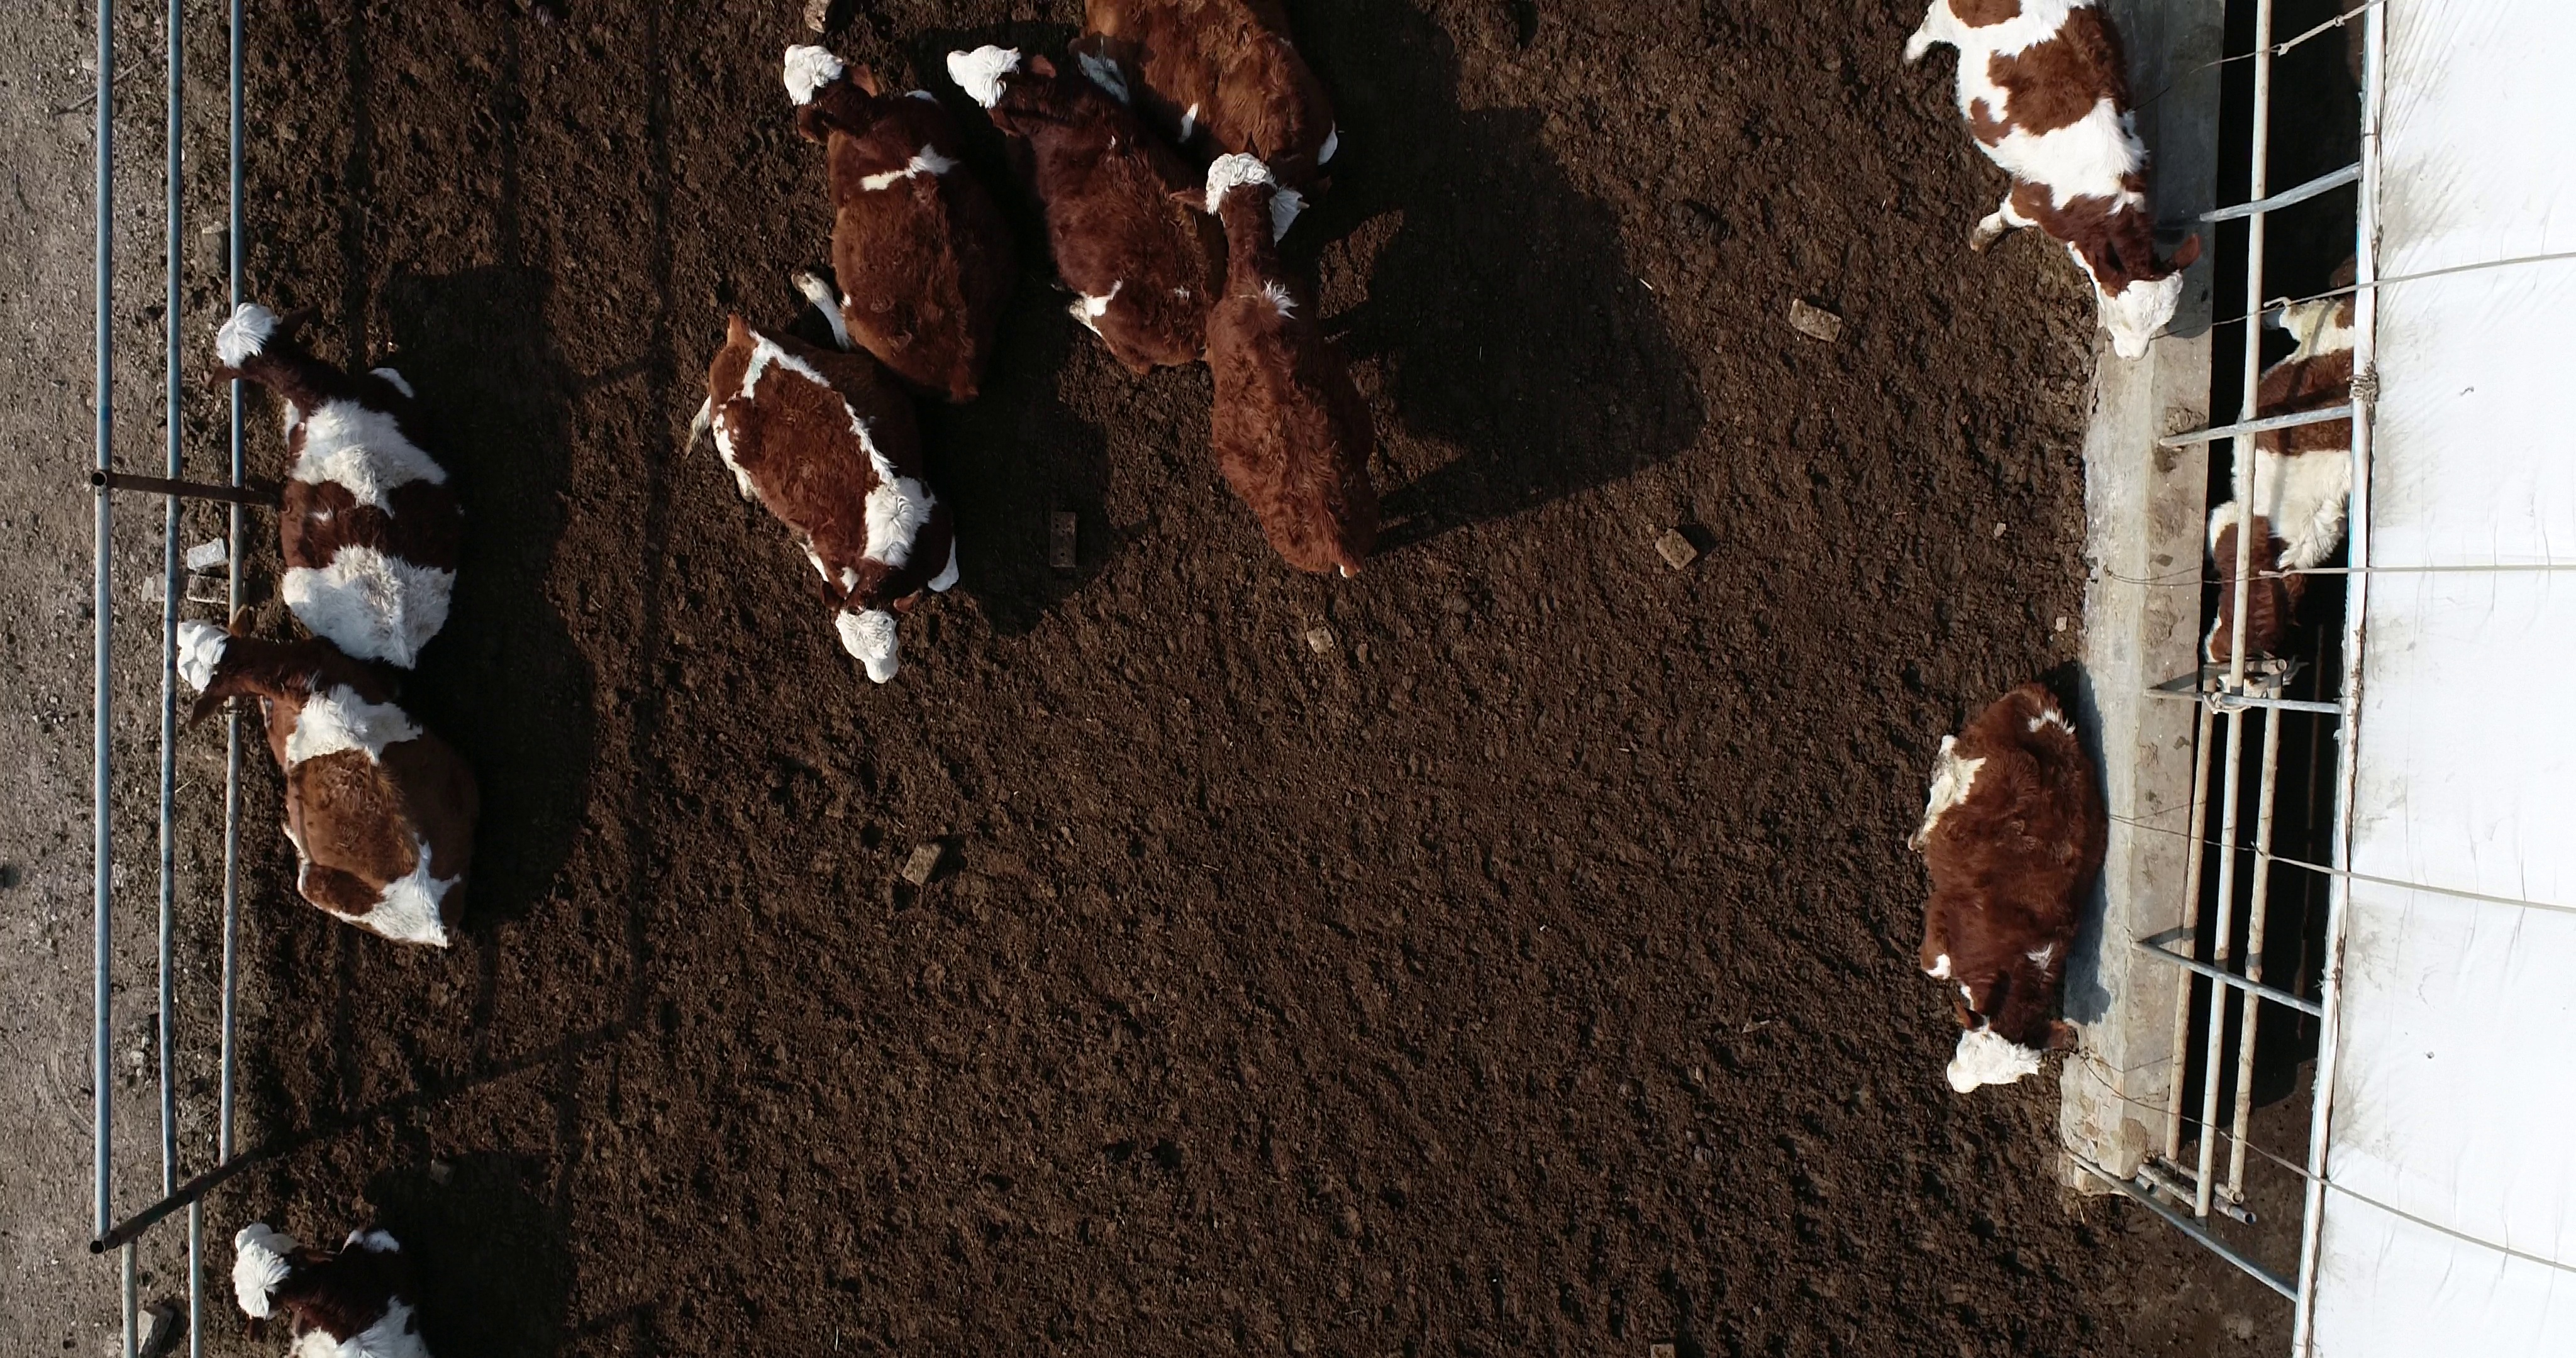cattle: (157, 607, 489, 958), (680, 307, 976, 687), (194, 295, 475, 671), (1165, 147, 1389, 588), (767, 39, 1021, 411), (1893, 673, 2102, 1108)
